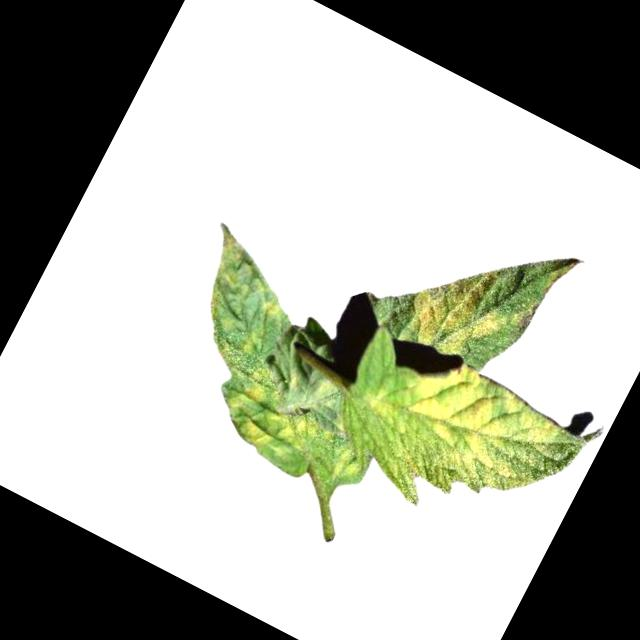Leaf_Mold: (386, 348, 572, 516), (397, 241, 522, 372), (266, 395, 339, 459), (355, 375, 410, 430), (226, 359, 275, 418), (235, 416, 277, 454), (260, 293, 291, 322)
